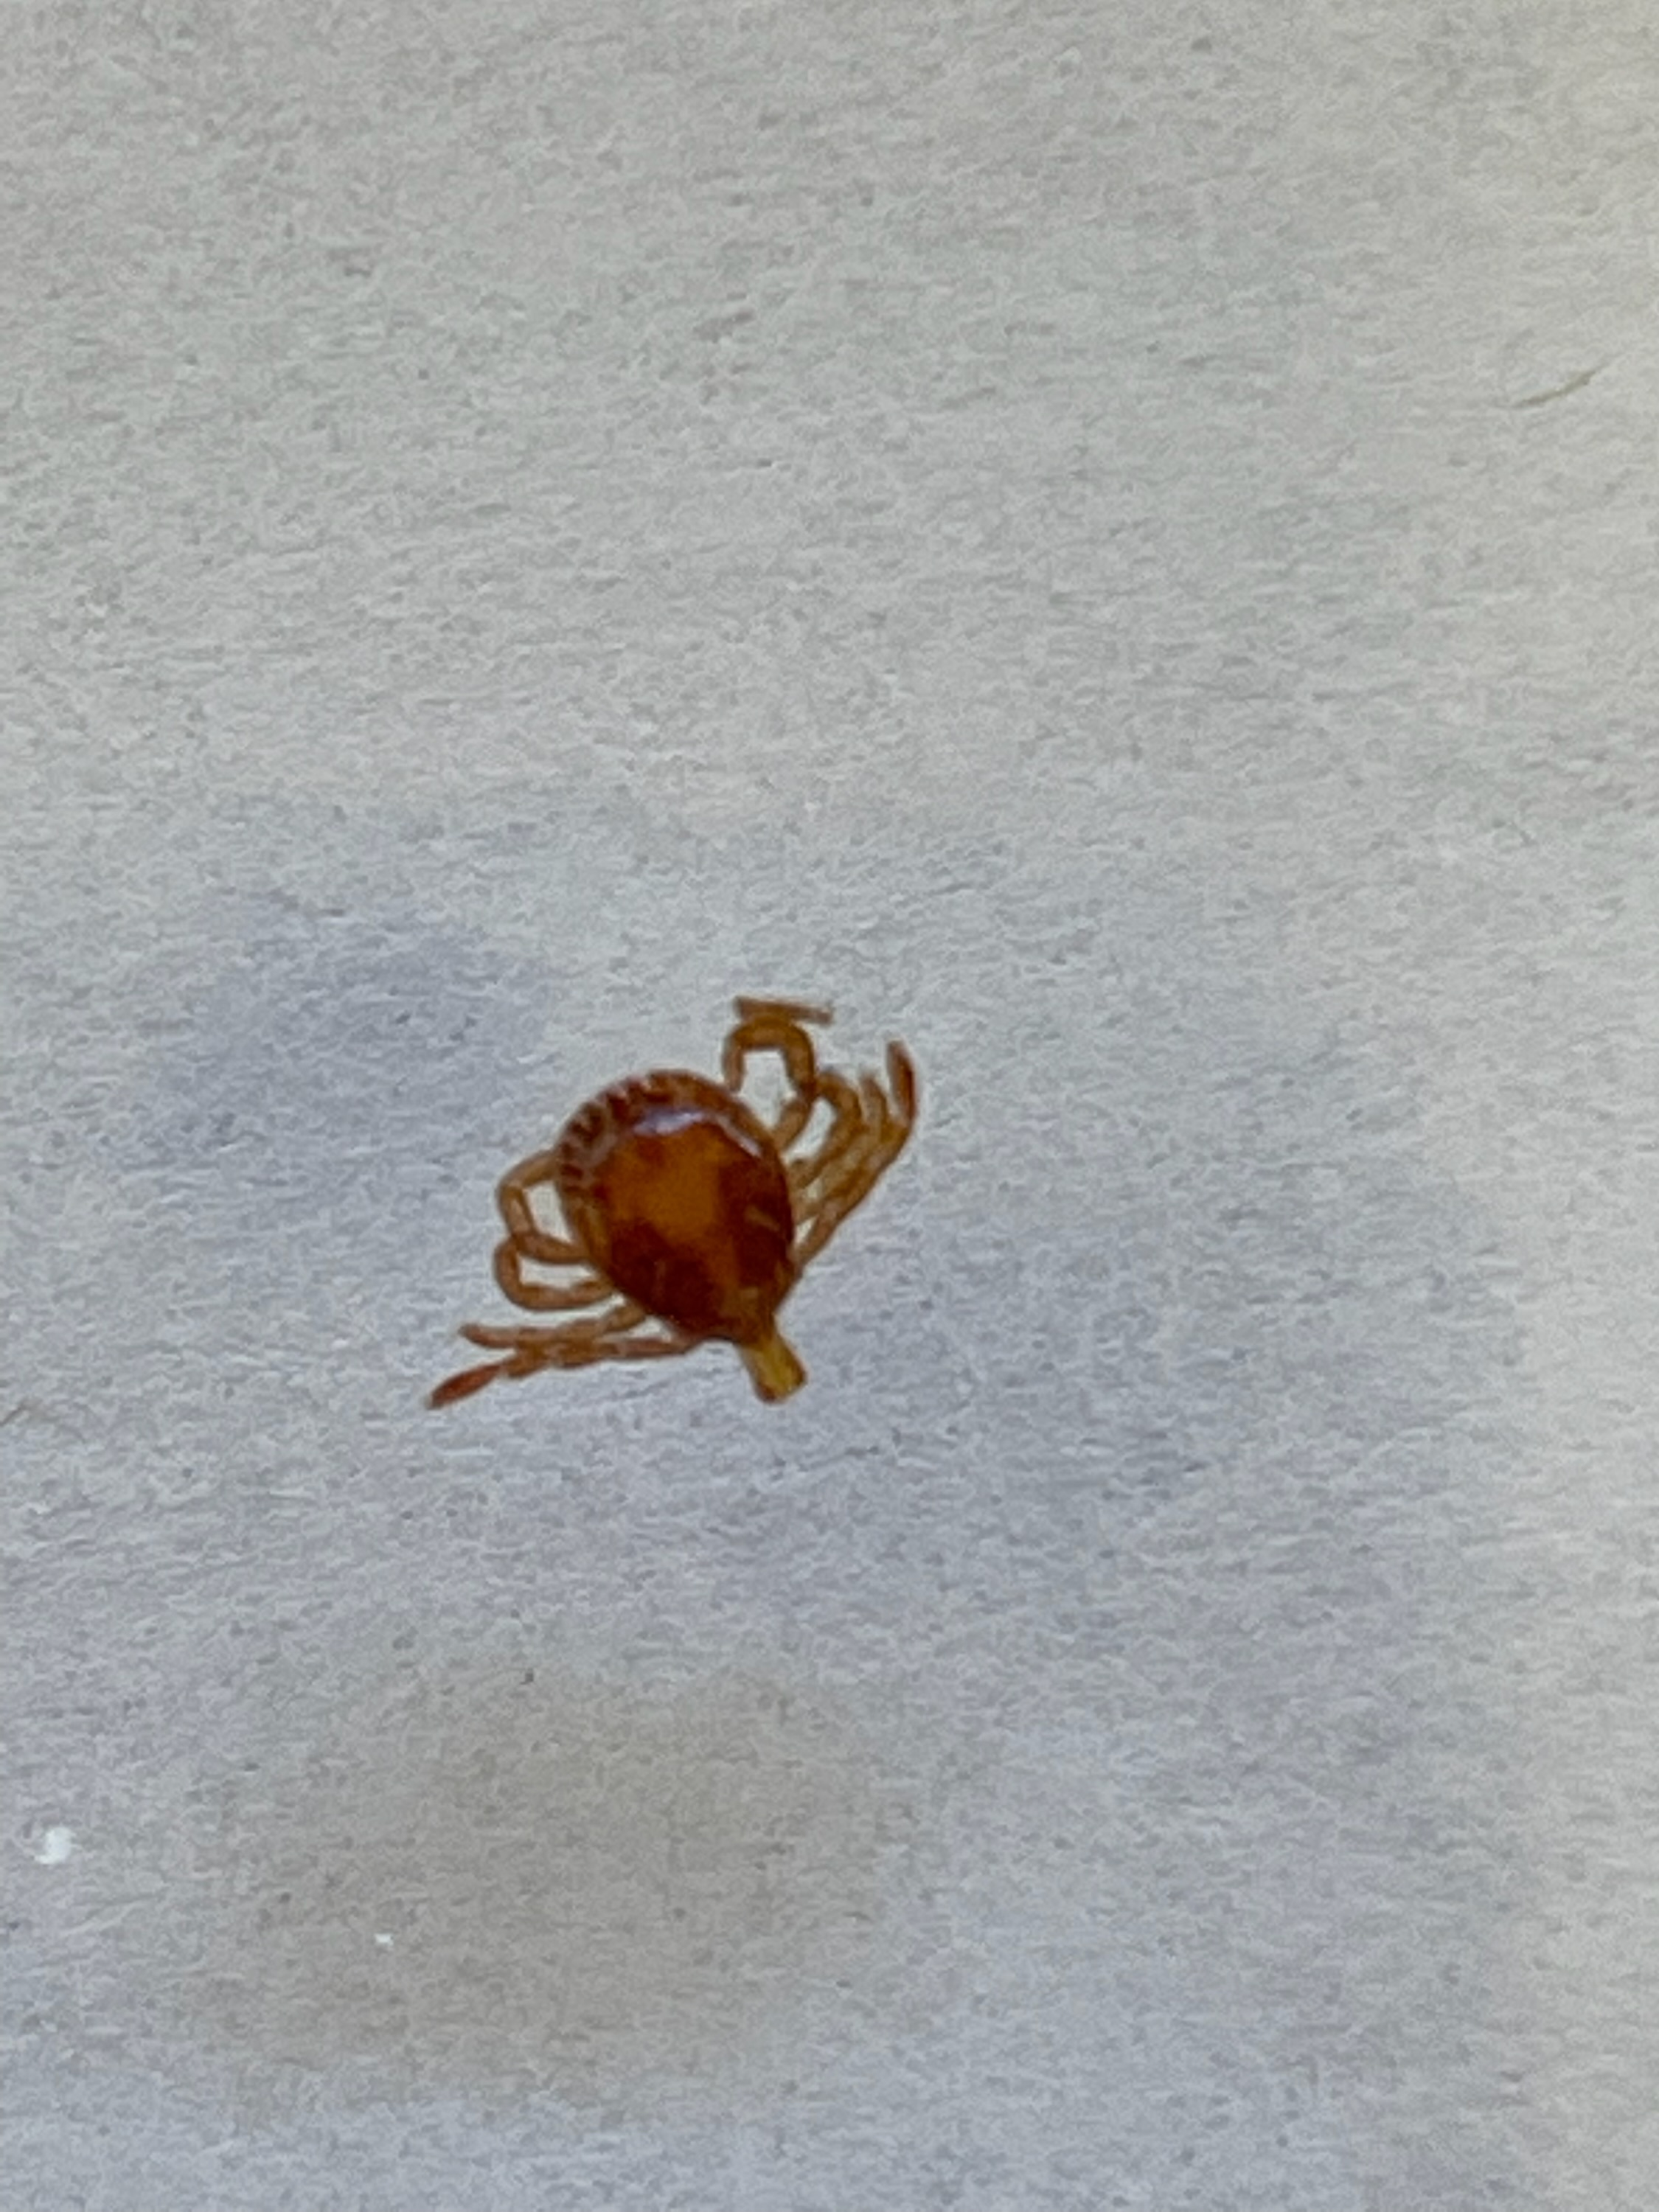unlabelled_tick: (406, 971, 938, 1449)
